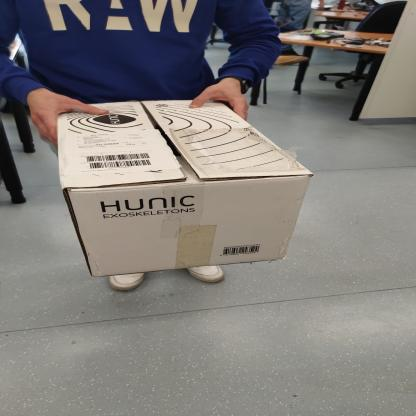box: (44, 85, 314, 291)
